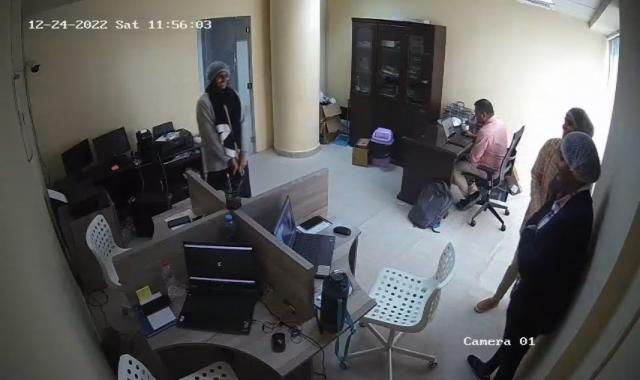hairnet: (552, 132, 601, 186), (560, 107, 594, 138), (205, 59, 232, 92)
no_hairnet: (471, 98, 496, 126)
